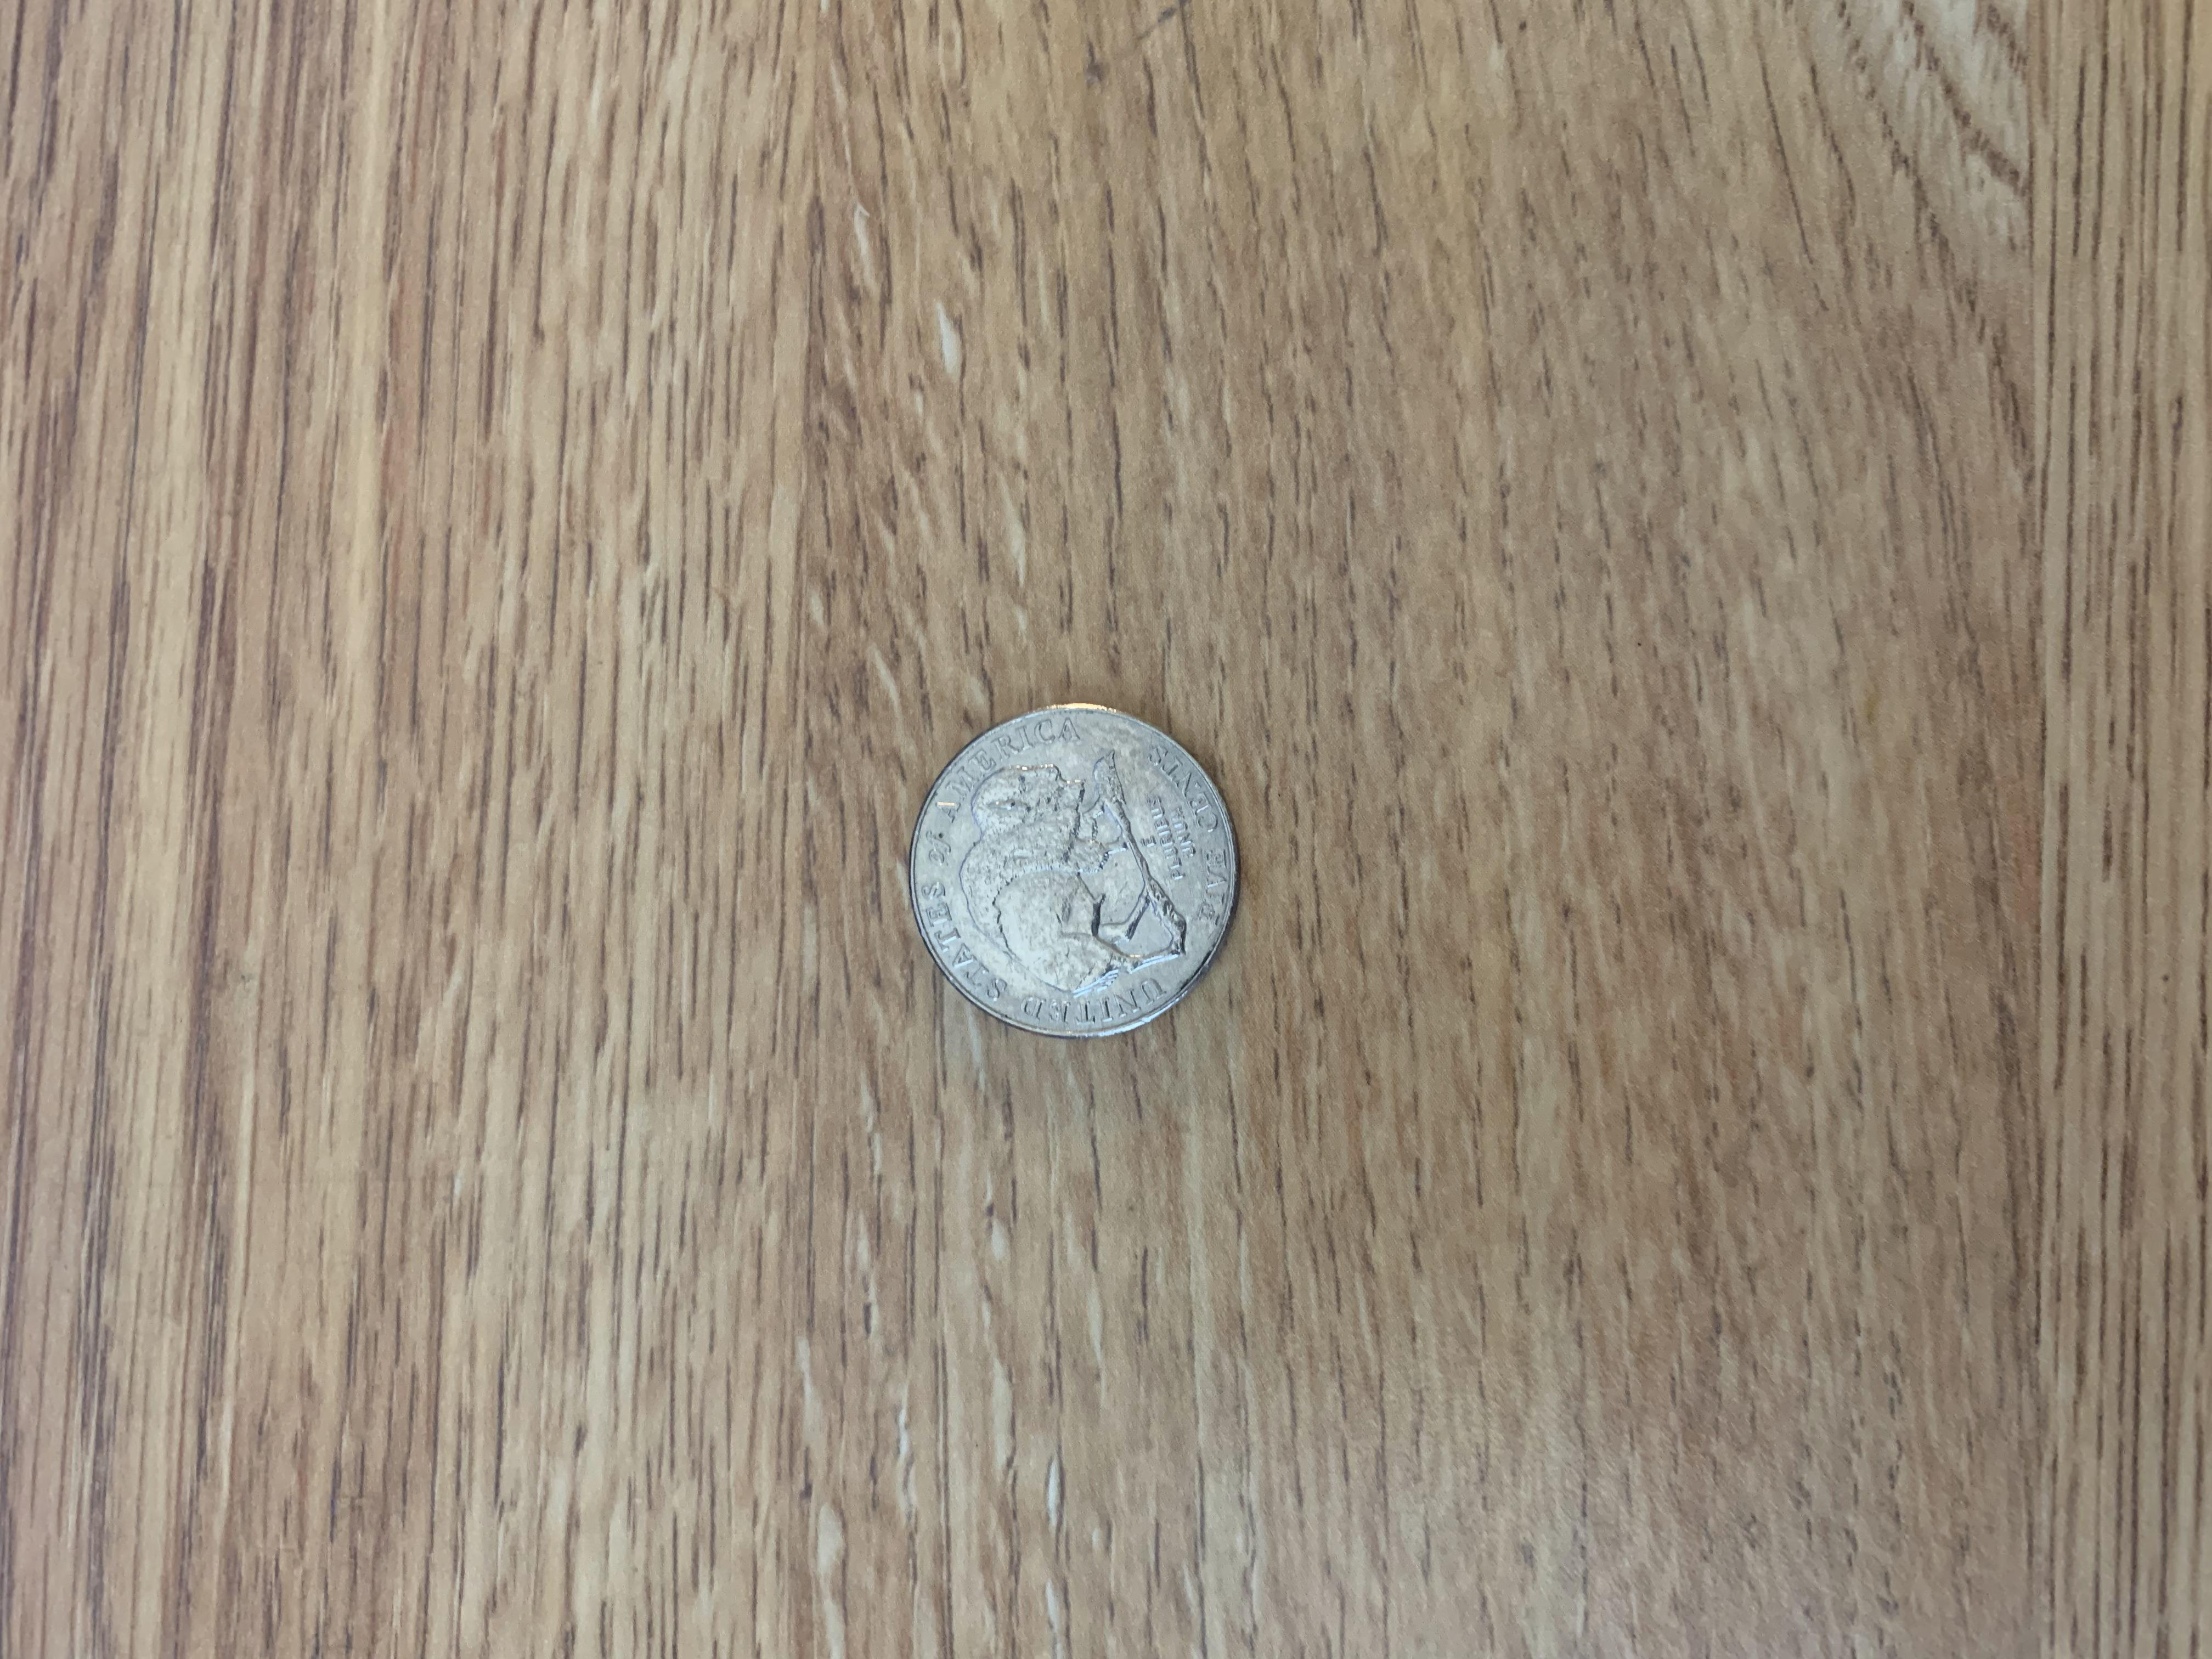Nickel: (902, 680, 1249, 1051)
